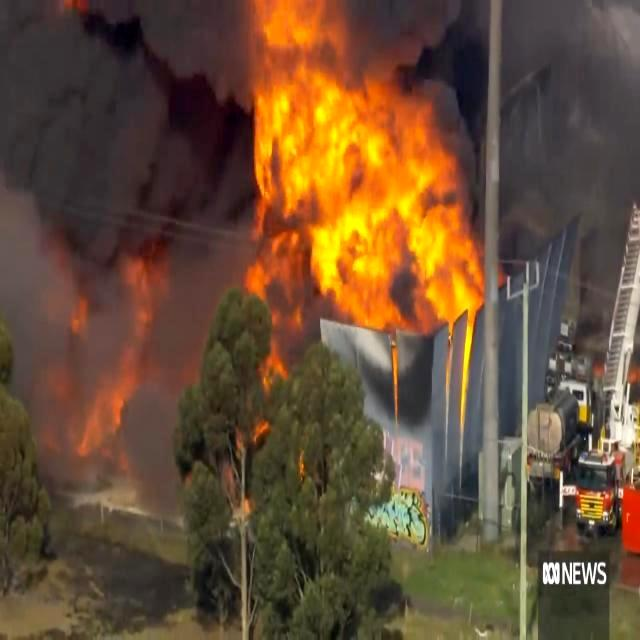fire: (248, 1, 508, 400), (44, 243, 172, 481)
